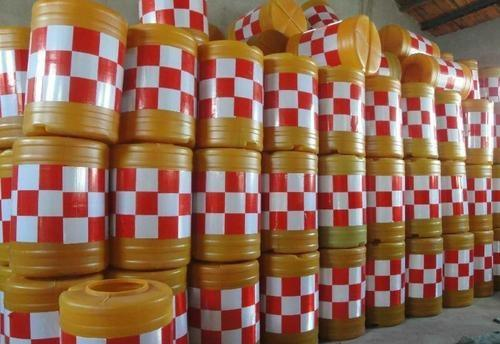cone_barrel: (6, 138, 107, 272), (110, 144, 192, 265), (122, 22, 197, 146), (192, 148, 260, 258), (56, 278, 174, 339), (196, 40, 263, 146), (3, 270, 96, 341), (186, 260, 259, 338), (259, 249, 318, 341), (262, 54, 317, 151), (265, 151, 317, 252), (292, 15, 380, 71), (319, 155, 364, 247), (319, 247, 364, 337), (320, 68, 364, 154), (366, 240, 404, 324), (364, 73, 401, 155), (367, 156, 403, 240), (403, 54, 473, 95), (407, 237, 442, 317), (407, 158, 440, 236), (403, 83, 436, 157), (443, 230, 472, 308), (379, 24, 441, 60), (435, 90, 463, 160), (441, 158, 467, 233), (464, 97, 493, 163), (466, 163, 493, 229), (472, 228, 492, 297)
